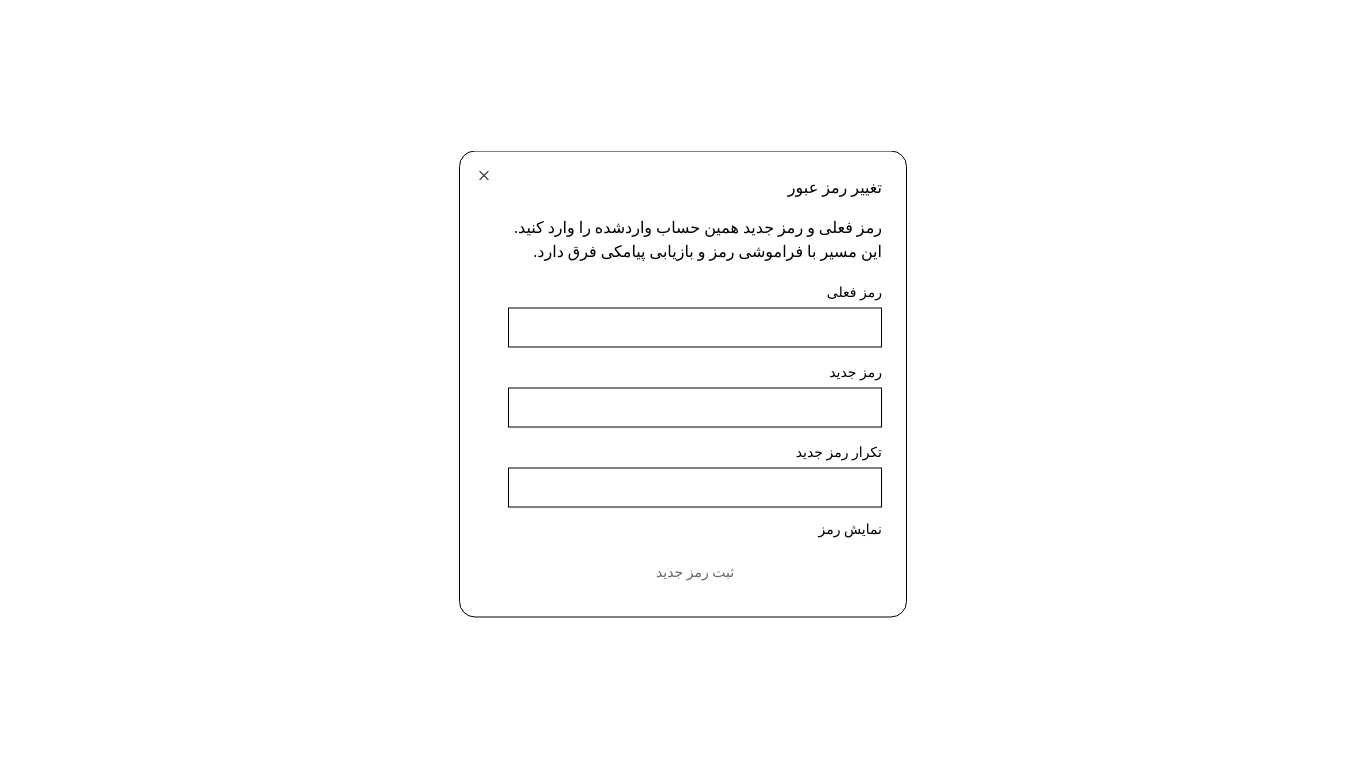
Test case: password change form › keeps the typed passwords beside contract field errors
Type "old-secret" into the password field labelled "رمز فعلی".
click(695, 328); type("old-secret")  # box [508,308,882,348]
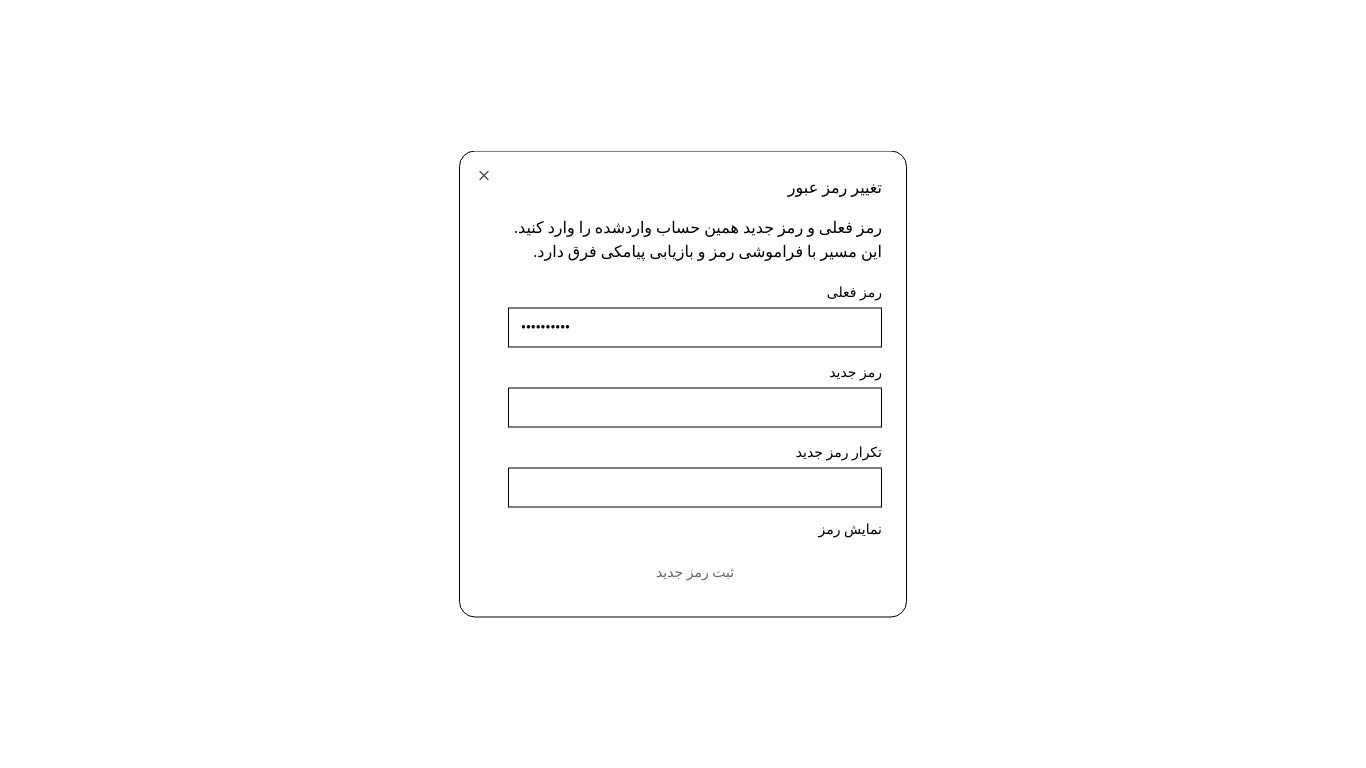
Type "new-secret" into the password field labelled "رمز جدید".
click(695, 408); type("new-secret")  # box [508,388,882,428]
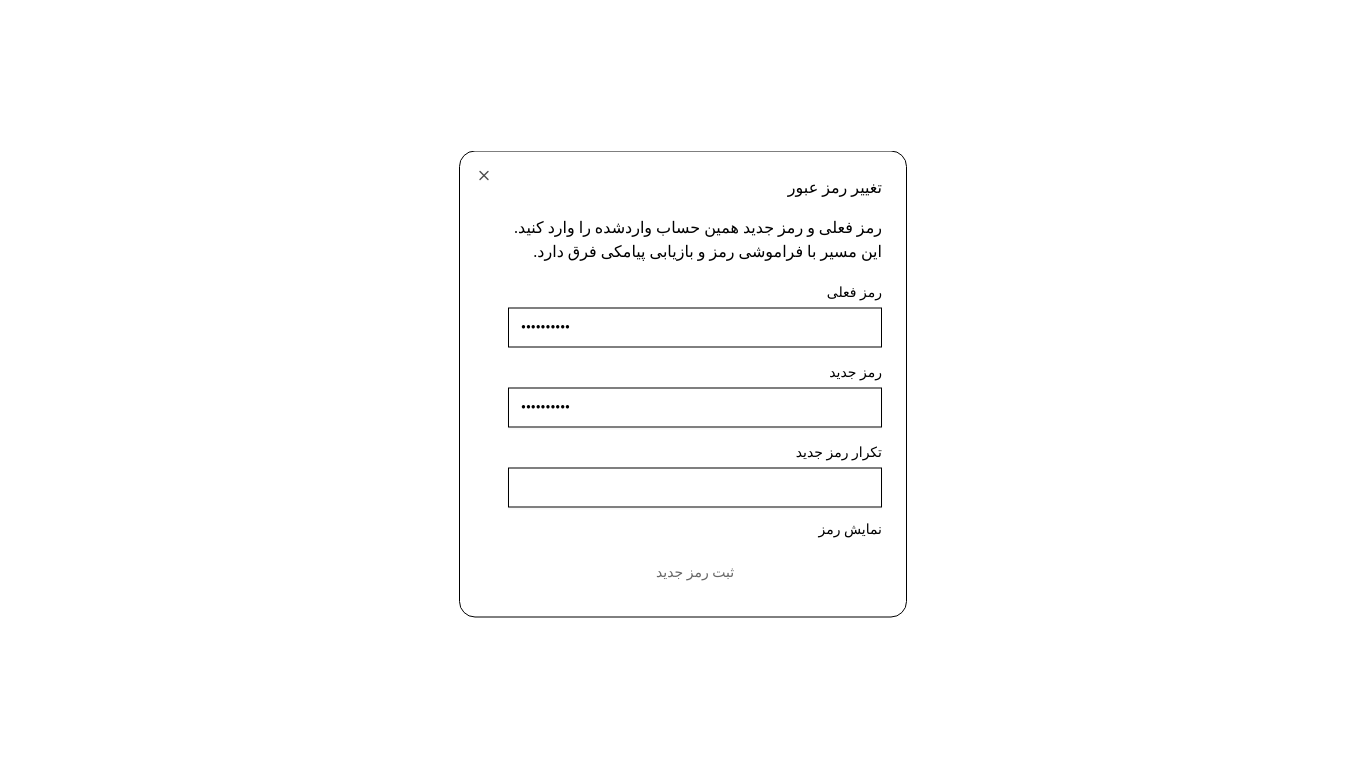
Type "new-secret" into the password field labelled "تکرار رمز جدید".
click(695, 488); type("new-secret")  # box [508,468,882,508]
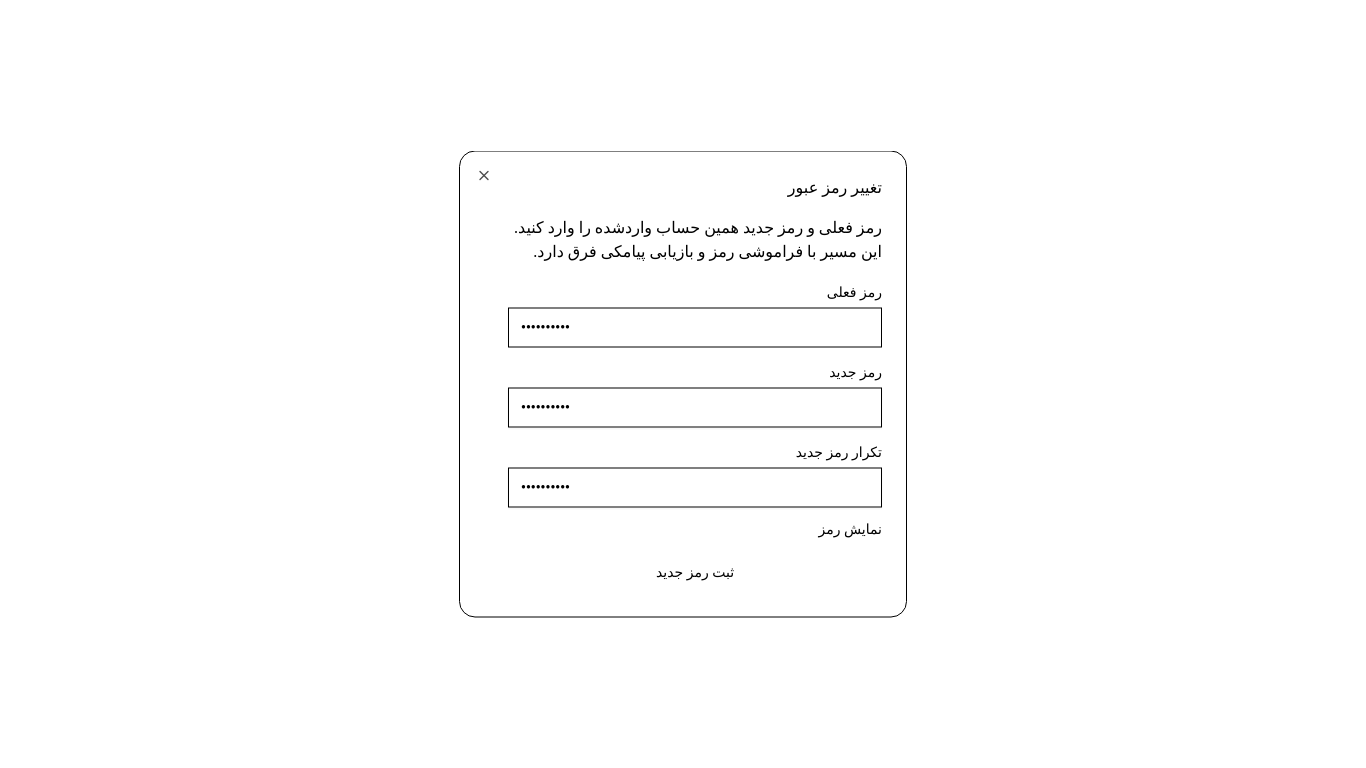
Click the button "ثبت رمز جدید".
click(695, 572)  # box [508,552,882,592]
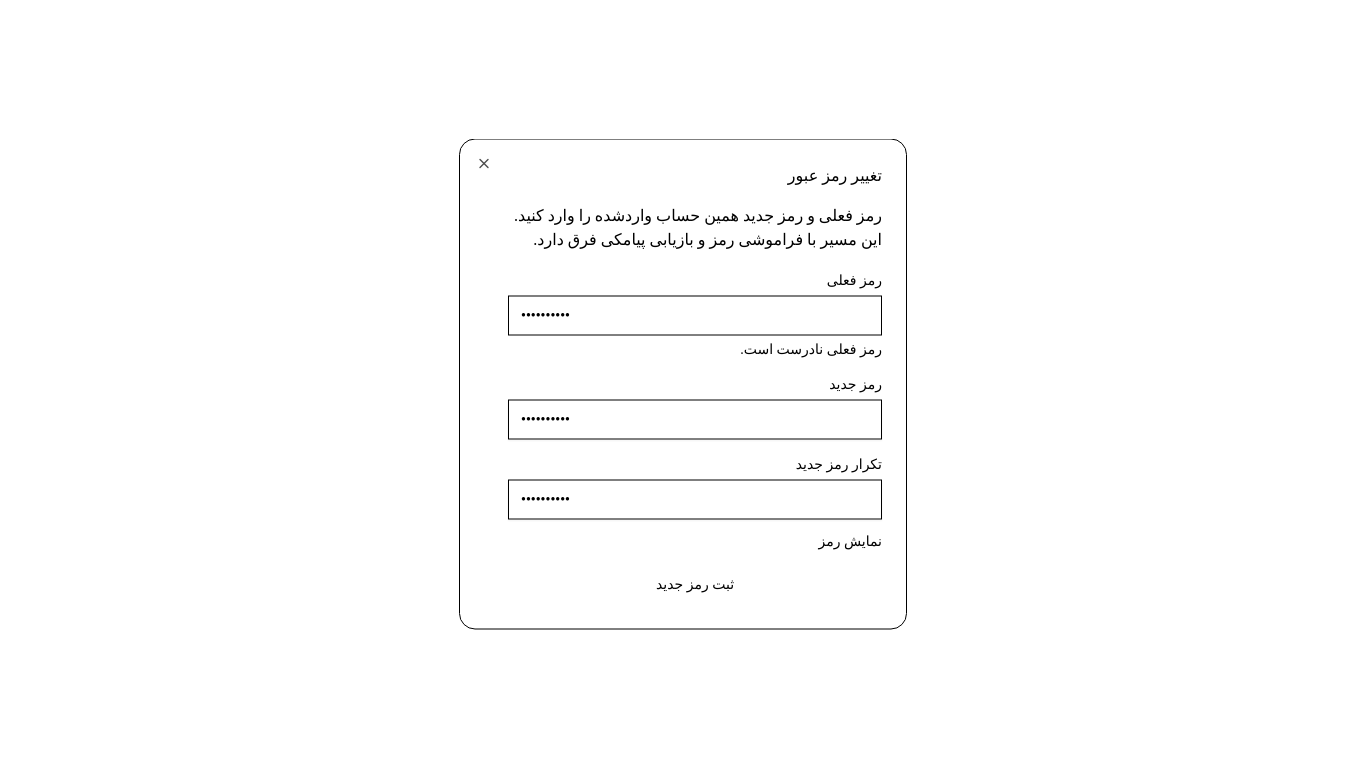
Check: the text "رمز فعلی نادرست است." is shown, box [740,342,882,356]
Click the button "ثبت رمز جدید".
click(695, 584)  # box [508,564,882,604]
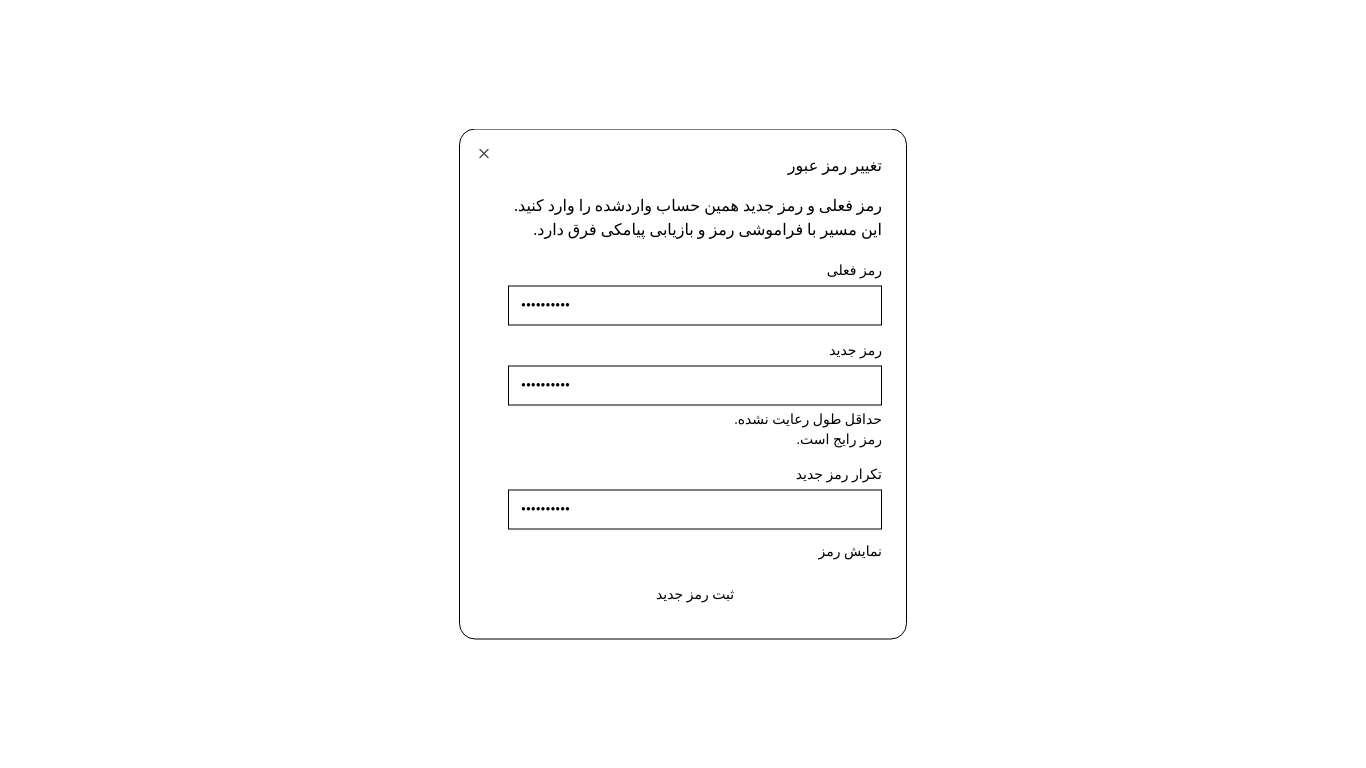
Check: the text "حداقل طول رعایت نشده. رمز رایج است." is shown, box [734,412,882,446]
Click the button "ثبت رمز جدید".
click(695, 594)  # box [508,574,882,614]
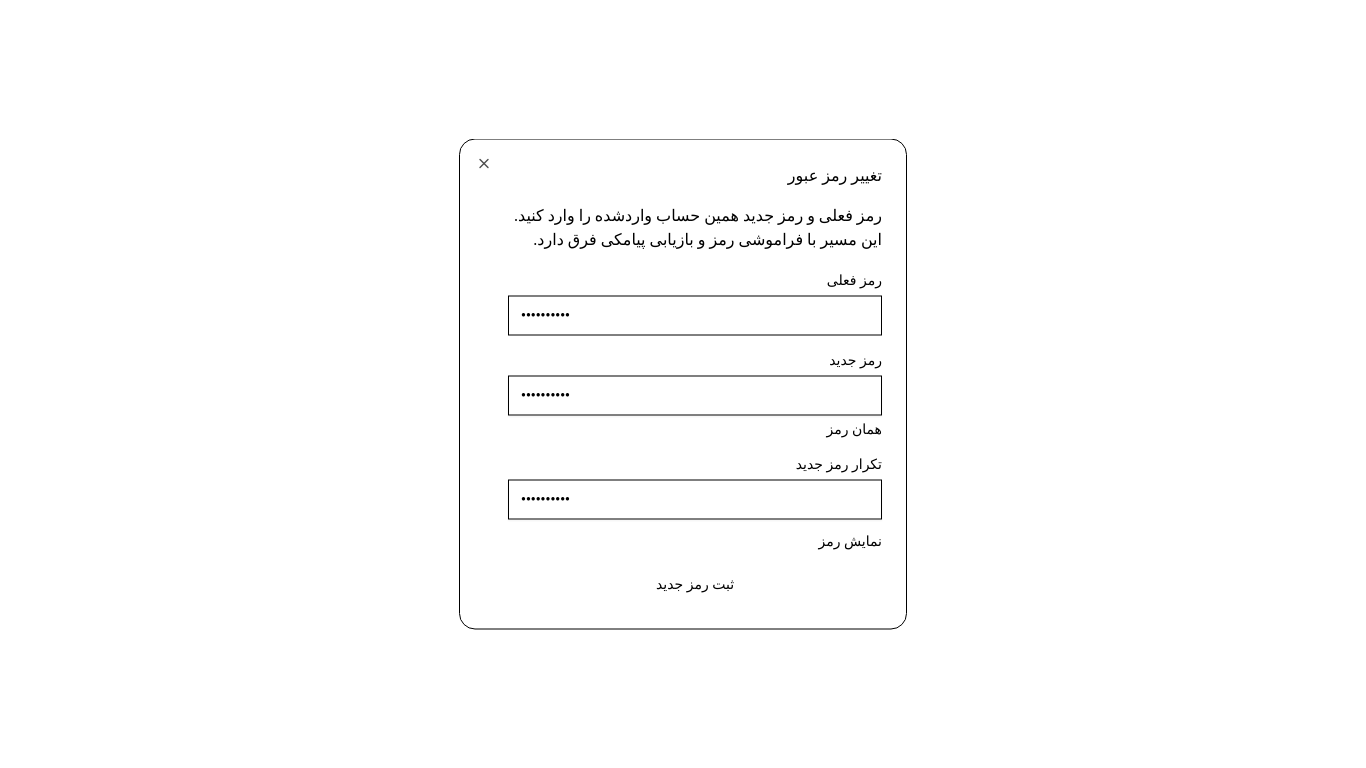
Check: the text "همان رمز" is shown, box [826,422,882,436]
